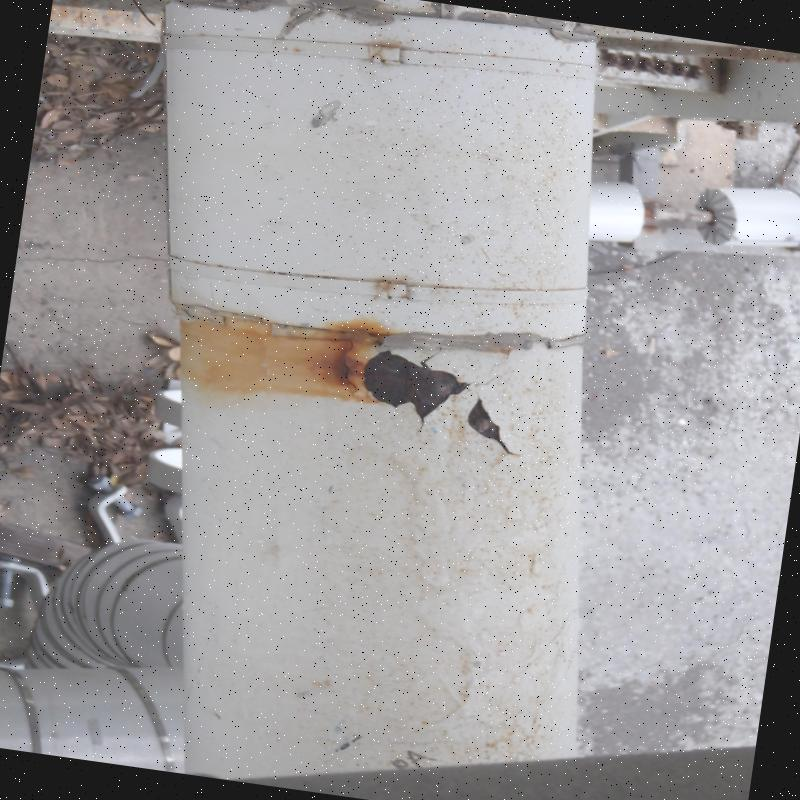corrosion: (305, 341, 360, 382)
